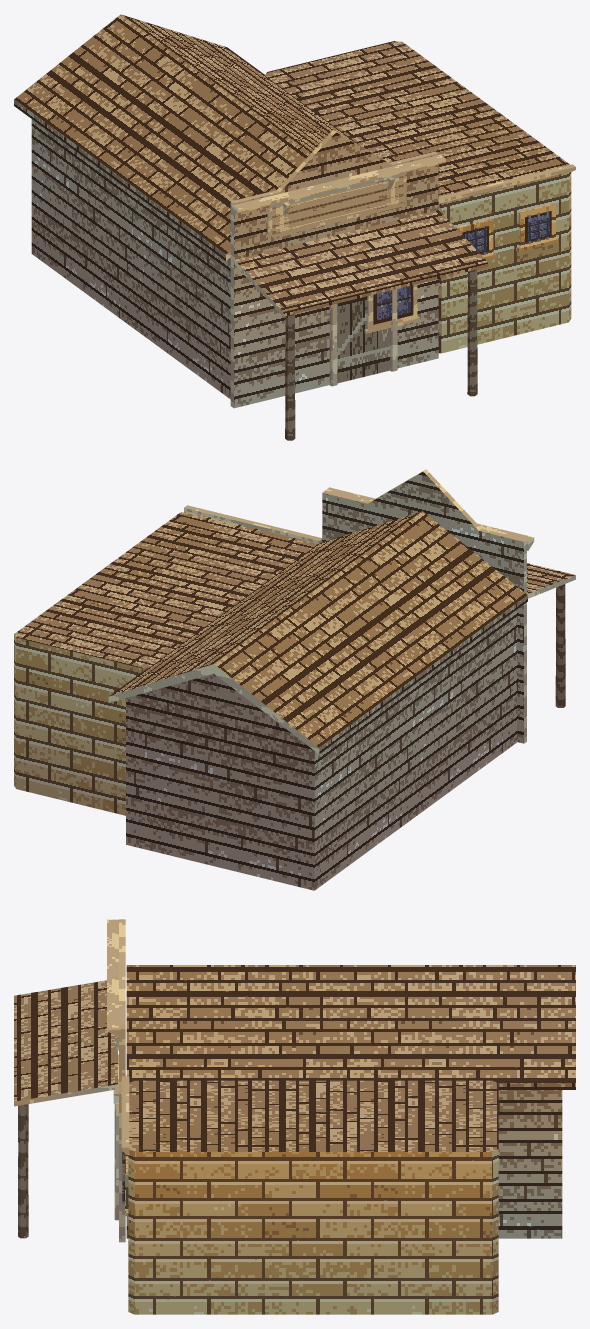
Rendered from wtown.sheriff.glb.
The picture shows the model from 3 angles, top to bottom: view 1: azimuth 30°, elevation 25°; view 2: azimuth 150°, elevation 25°; view 3: azimuth 270°, elevation 25°; orthographic projection. The views are drawn at different scales.
Parts seen in each view (by area): view 1: kit_roof, kit_jail, kit_body, kit_front, kit_porch, kit_card_panes, kit_trim, kit_windows; view 2: kit_body, kit_roof, kit_jail, kit_front, kit_porch, kit_trim; view 3: kit_jail, kit_roof, kit_porch, kit_body, kit_trim, kit_front.
Boxes of the visible parts, x1=… form: kit_roof: x1=14, y1=14, x2=439, y2=260; kit_jail: x1=265, y1=41, x2=575, y2=353; kit_body: x1=31, y1=119, x2=230, y2=399; kit_front: x1=230, y1=130, x2=438, y2=408; kit_porch: x1=234, y1=210, x2=487, y2=440; kit_card_panes: x1=272, y1=176, x2=551, y2=383; kit_trim: x1=231, y1=154, x2=445, y2=386; kit_windows: x1=364, y1=203, x2=558, y2=333; kit_body: x1=126, y1=610, x2=516, y2=890; kit_roof: x1=108, y1=511, x2=527, y2=753; kit_jail: x1=14, y1=505, x2=322, y2=815; kit_front: x1=322, y1=469, x2=526, y2=743; kit_porch: x1=527, y1=563, x2=575, y2=707; kit_trim: x1=323, y1=487, x2=534, y2=550; kit_jail: x1=121, y1=1076, x2=498, y2=1314; kit_roof: x1=126, y1=965, x2=575, y2=1089; kit_porch: x1=14, y1=980, x2=117, y2=1238; kit_body: x1=126, y1=1090, x2=562, y2=1238; kit_trim: x1=107, y1=919, x2=120, y2=1220; kit_front: x1=119, y1=919, x2=125, y2=1242.
Bounding box in the file's own units: 7.85 × 5.4 × 10.32.
Materials: 9 (9 with a texture image).
